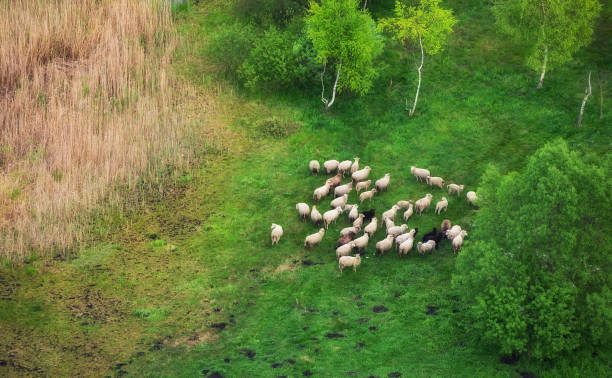sheep: (300, 224, 326, 249), (391, 225, 417, 245), (290, 200, 314, 220), (338, 226, 364, 244), (334, 239, 356, 260), (396, 234, 415, 258), (337, 254, 363, 271), (415, 191, 433, 215), (432, 195, 452, 216), (309, 183, 331, 202), (409, 165, 434, 181), (330, 192, 351, 211), (324, 206, 343, 227), (373, 170, 391, 192), (375, 235, 393, 257), (267, 224, 284, 247), (384, 221, 410, 236), (308, 204, 325, 226), (446, 182, 467, 199), (425, 174, 447, 190), (382, 203, 399, 223), (319, 168, 339, 185), (415, 238, 432, 257), (423, 225, 440, 244), (359, 188, 376, 207), (321, 157, 341, 173), (402, 201, 417, 222), (356, 231, 371, 252), (452, 231, 466, 252), (366, 215, 380, 236), (467, 189, 483, 207), (349, 155, 364, 174), (352, 166, 370, 181), (332, 183, 352, 196), (355, 178, 371, 194), (351, 214, 366, 230), (361, 207, 375, 224), (349, 205, 362, 223), (337, 158, 352, 173), (439, 217, 450, 236), (446, 223, 459, 239), (380, 215, 395, 228), (308, 158, 320, 173)
